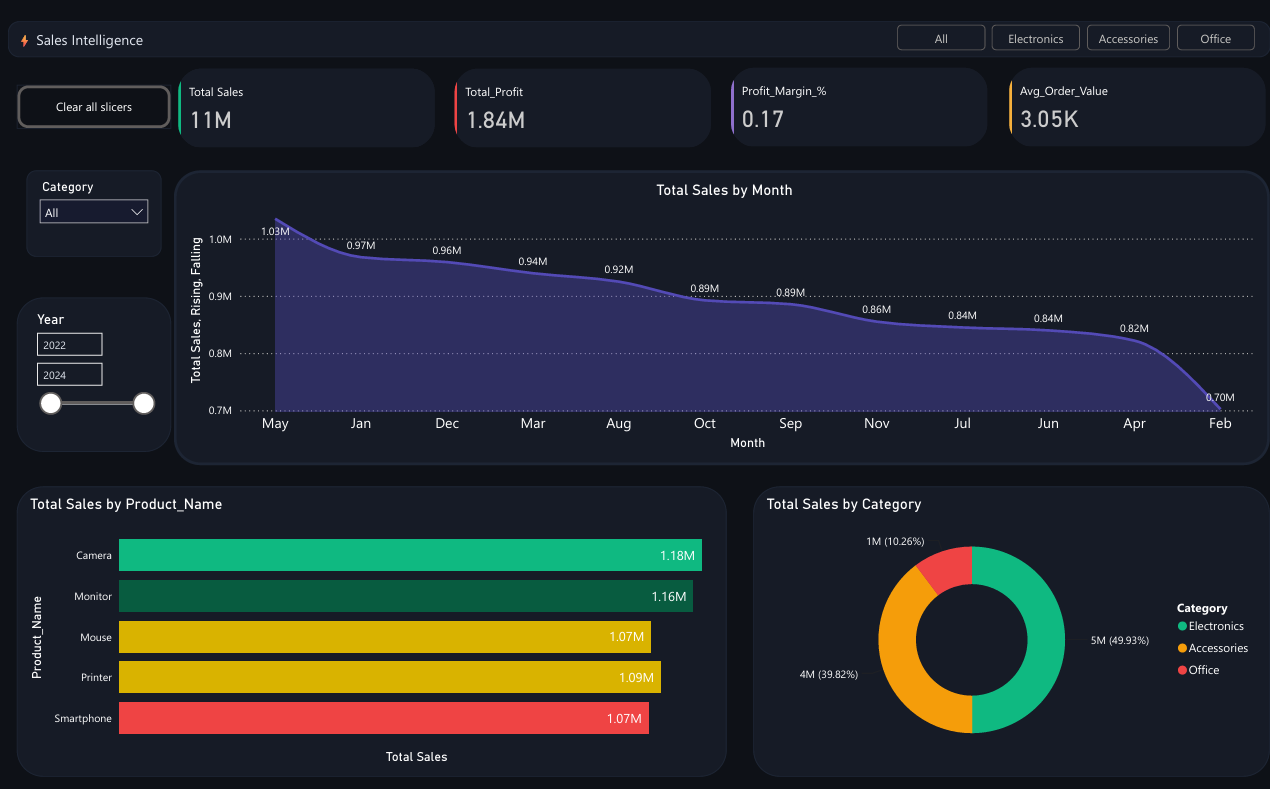

This screenshot's page, from the dashboard's own definition file:
{"tool":"powerbi","page":{"name":"Overview","canvas":[1440,900],"ordinal":0},"visuals":[{"type":"areaChart","fields":{"Category":["DateTable.Month"],"Y":["_Measures.Total Sales"]},"box":[199.1,194.5,1241.1,334.8],"z":0},{"type":"cardVisual","fields":{"Data":["_Measures.Profit_Margin_%"]},"box":[825,74,300,99],"z":2000},{"type":"cardVisual","fields":{"Data":["_Measures.Total Sales"]},"box":[199,75,300,99],"z":3000},{"type":"cardVisual","fields":{"Data":["_Measures.Total_Profit"]},"box":[512,75,300,99],"z":4000},{"type":"cardVisual","fields":{"Data":["_Measures.Avg_Order_Value"]},"box":[1140,74,300,99],"z":5000},{"type":"donutChart","fields":{"Category":["ecommerce_sales_data.Category"],"Y":["_Measures.Total Sales"]},"box":[855.1,553.5,585.1,328.8],"z":6000},{"type":"clusteredBarChart","fields":{"Category":["ecommerce_sales_data.Product_Name"],"Y":["_Measures.Total Sales"]},"box":[21.1,553.5,803.8,328.8],"z":7000},{"type":"group","id":"g1","title":"Group 1","box":[10.6,25.6,1429.6,40.7],"z":10000},{"type":"textbox","box":[10.6,25.6,1429.6,40.7],"z":11000,"group":"g1"},{"type":"actionButton","box":[1018,30,100,29],"z":11000},{"type":"actionButton","box":[1233,30,94,29],"z":12000},{"type":"actionButton","box":[1125,30,100,29],"z":13000},{"type":"actionButton","box":[1335,30,88,29],"z":14000},{"type":"slicer","fields":{"Values":["ecommerce_sales_data.Category"]},"box":[31.7,194.5,153.8,98],"z":15000},{"type":"slicer","fields":{"Values":["DateTable.Year"]},"box":[21.1,339.3,174.9,174.9],"z":16000},{"type":"actionButton","box":[21.1,98,174.9,49.8],"z":16001}]}

Visuals, with their boxes in screenshot pixels (x1, y1, x2, y2), scaled from the page's 1440x900 canvas onto the 1270x789 screenshot:
areaChart - DateTable.Month x _Measures.Total Sales: detection(176, 171, 1269, 464)
cardVisual - _Measures.Profit_Margin_%: detection(728, 65, 992, 152)
cardVisual - _Measures.Total Sales: detection(176, 66, 440, 153)
cardVisual - _Measures.Total_Profit: detection(452, 66, 716, 153)
cardVisual - _Measures.Avg_Order_Value: detection(1005, 65, 1269, 152)
donutChart - ecommerce_sales_data.Category x _Measures.Total Sales: detection(754, 485, 1269, 773)
clusteredBarChart - ecommerce_sales_data.Product_Name x _Measures.Total Sales: detection(19, 485, 728, 773)
"Group 1" group: detection(9, 22, 1269, 58)
textbox: detection(9, 22, 1269, 58)
actionButton: detection(898, 26, 986, 52)
actionButton: detection(1087, 26, 1170, 52)
actionButton: detection(992, 26, 1080, 52)
actionButton: detection(1177, 26, 1255, 52)
slicer - ecommerce_sales_data.Category: detection(28, 171, 164, 256)
slicer - DateTable.Year: detection(19, 297, 173, 451)
actionButton: detection(19, 86, 173, 130)
